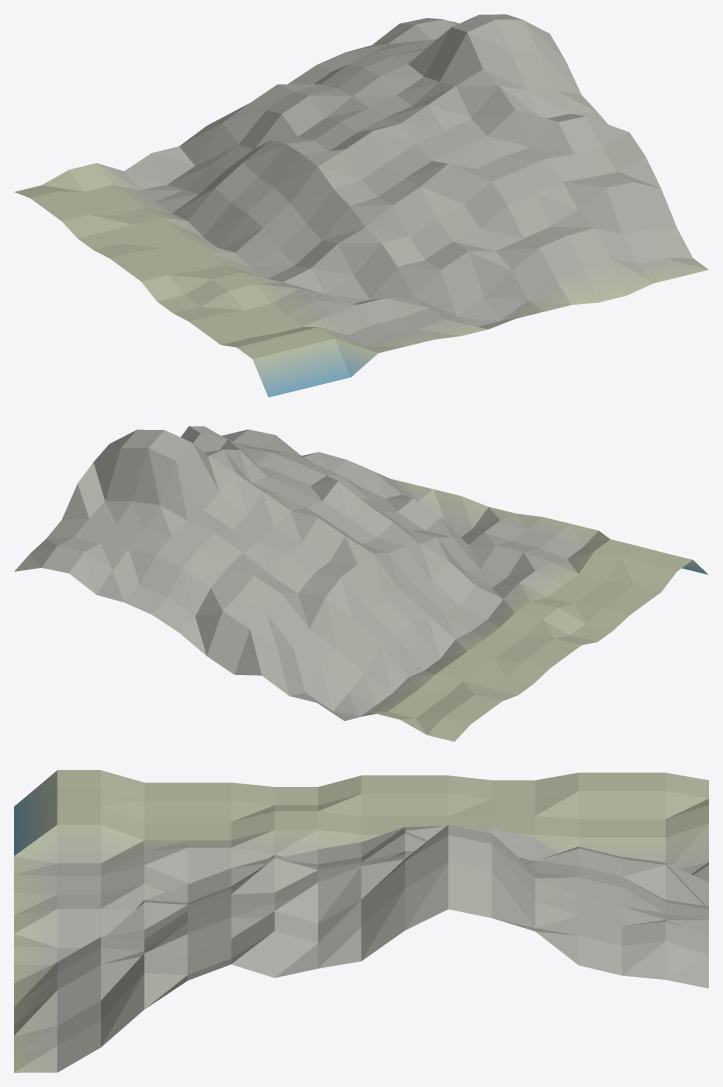
3 views of the same model, one above another, from view 1: azimuth 30°, elevation 25°; view 2: azimuth 150°, elevation 25°; view 3: azimuth 270°, elevation 25° (orthographic). The views are drawn at different scales.
Size of the model in its own units: 32 by 11.61 by 32.
